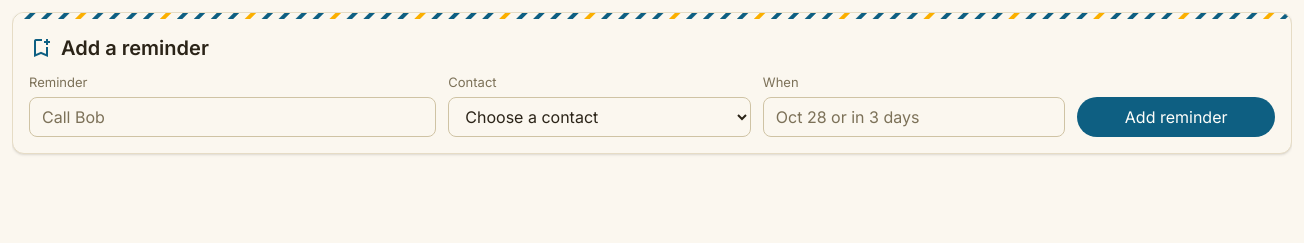
ReminderQuickAdd › asks for a contact before adding
The image size is (1304, 243).
Step 1. Type "Call someone" into the field labelled "Reminder" → coordinates (233, 117), box left=29, top=97, right=436, bottom=137
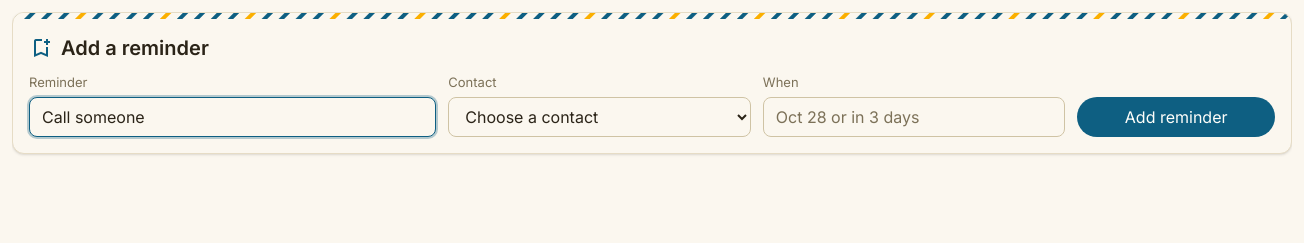
Step 2. Type "tomorrow" into the field labelled "When" → coordinates (914, 117), box left=763, top=97, right=1065, bottom=137
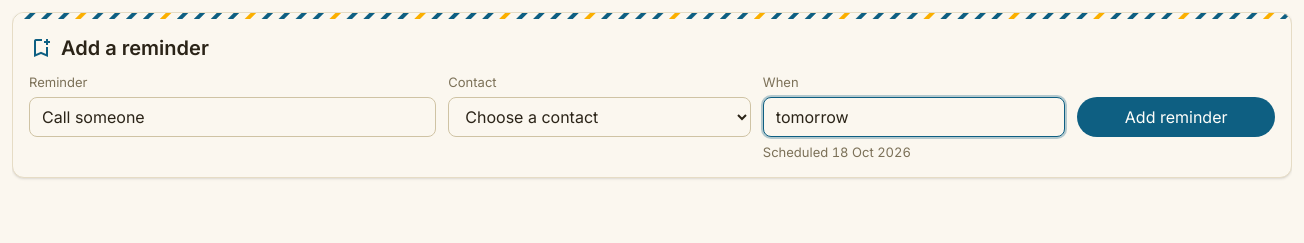
Step 3. Click the button "Add reminder" → coordinates (1176, 117), box left=1077, top=97, right=1275, bottom=137
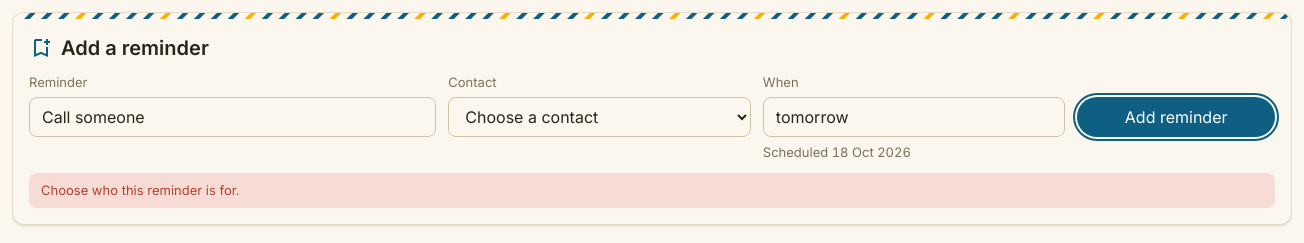
Expected: the text "Choose who this reminder is for." is shown, left=29, top=173, right=1275, bottom=208
